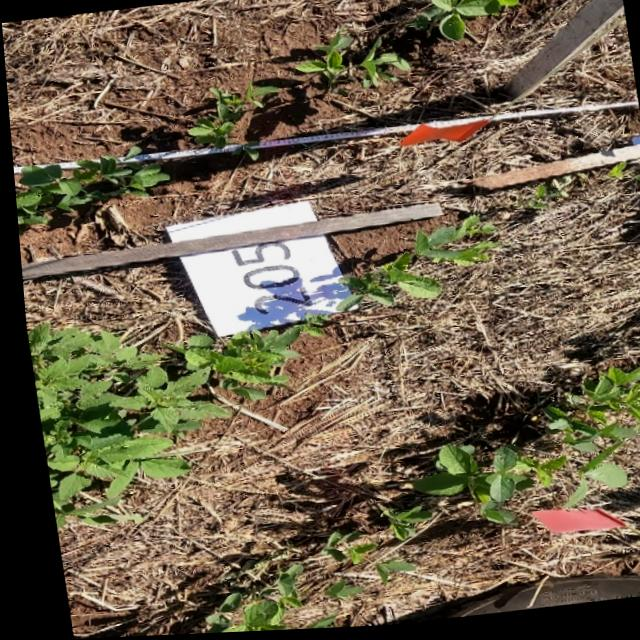soy_plant: (22, 321, 315, 525), (540, 372, 640, 506), (339, 219, 492, 306), (405, 448, 556, 527), (12, 157, 161, 230), (194, 566, 330, 635), (298, 35, 406, 88), (187, 84, 271, 149), (417, 0, 531, 36), (373, 506, 423, 545), (313, 533, 367, 567), (527, 179, 574, 211), (364, 558, 404, 585), (315, 581, 350, 601), (605, 168, 640, 187)
